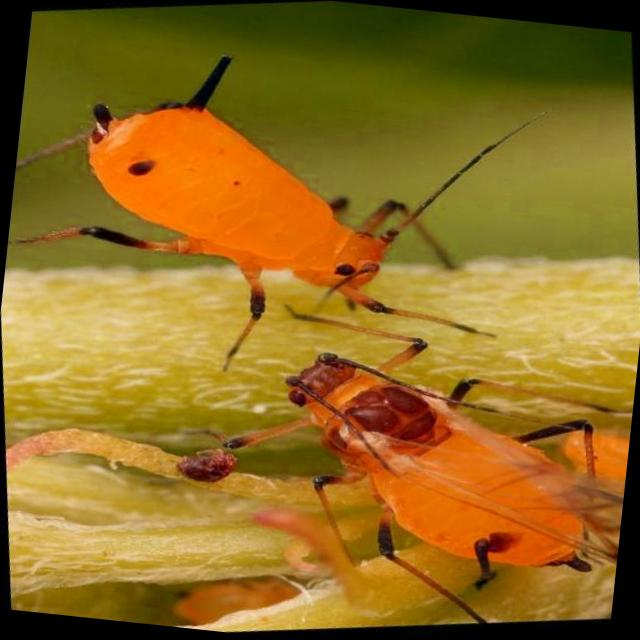aphid: (6, 18, 514, 396), (159, 274, 640, 640)
